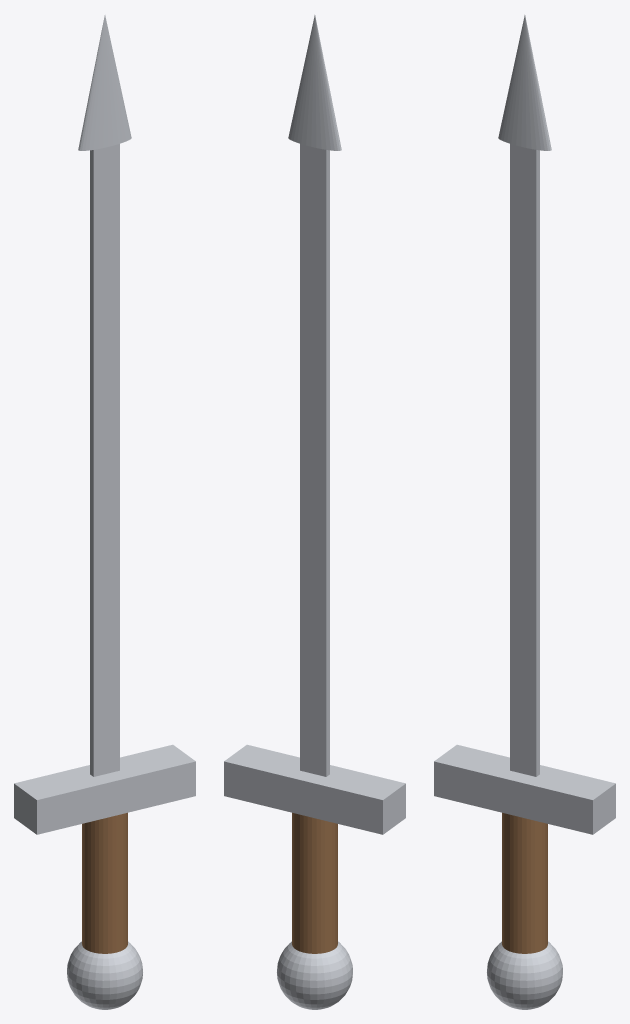
Rendered from weapon_iron_sword.glb.
3 views of the same model, side by side, from view 1: azimuth 30°, elevation 25°; view 2: azimuth 150°, elevation 25°; view 3: azimuth 330°, elevation 25° (orthographic).
Parts seen in each view (by area): view 1: Cube, Cube.001, Cylinder, Sphere, Cone; view 2: Cube, Cube.001, Cylinder, Sphere, Cone; view 3: Cube, Cube.001, Cylinder, Sphere, Cone.
Boxes of the visible parts, <box> form: Cube: <box>90,144,119,776</box>; Cube.001: <box>14,744,195,834</box>; Cylinder: <box>82,812,127,953</box>; Sphere: <box>67,941,142,1009</box>; Cone: <box>78,15,131,150</box>; Cube: <box>300,144,329,776</box>; Cube.001: <box>224,744,405,834</box>; Cylinder: <box>292,812,337,953</box>; Sphere: <box>277,941,352,1009</box>; Cone: <box>288,15,341,150</box>; Cube: <box>510,144,539,776</box>; Cube.001: <box>434,744,615,834</box>; Cylinder: <box>502,812,547,953</box>; Sphere: <box>487,941,562,1009</box>; Cone: <box>498,15,551,150</box>.
Size of the model in its own units: 0.192 by 1.15 by 0.08.
